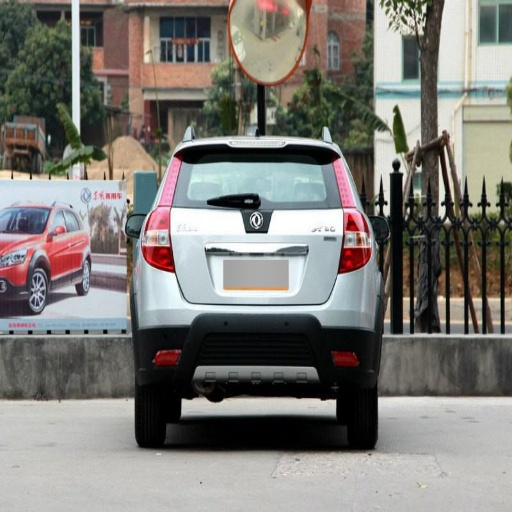back_bumper: (134, 258, 383, 387)
tailgate: (169, 204, 342, 300)
